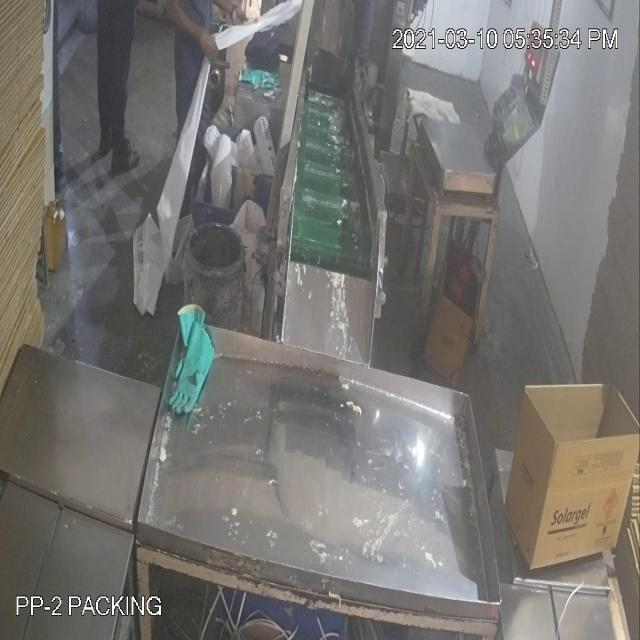No_Gloves: (155, 1, 227, 77)
